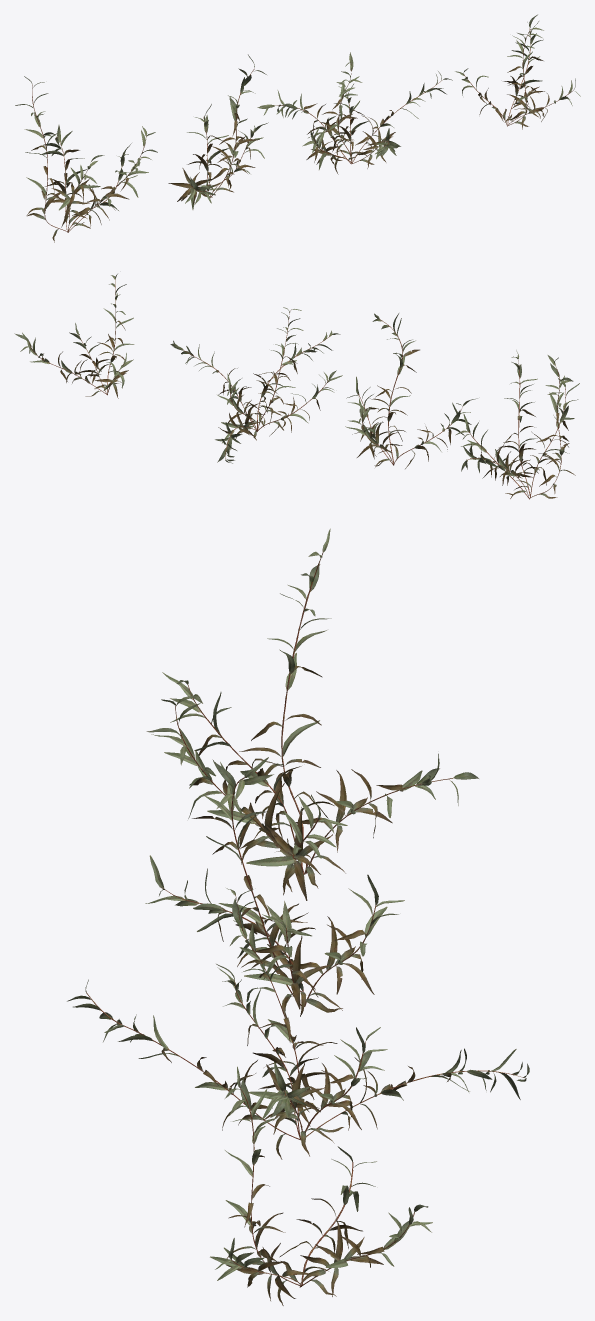
Rendered from shrub_02.glb.
The picture shows the model from 3 angles, top to bottom: view 1: azimuth 30°, elevation 25°; view 2: azimuth 150°, elevation 25°; view 3: azimuth 270°, elevation 25°; orthographic projection. The views are drawn at different scales.
Visible parts, largest first — view 1: shrub_02_a; view 2: shrub_02_a; view 3: shrub_02_a.
Part boxes in pixels (left/top/right/bottom): shrub_02_a: left=15, top=14, right=580, bottom=242; shrub_02_a: left=14, top=274, right=579, bottom=499; shrub_02_a: left=67, top=528, right=529, bottom=1305.
Size of the model in its own units: 6.05 by 1.7 by 2.29.
1 material, 1 textured.
